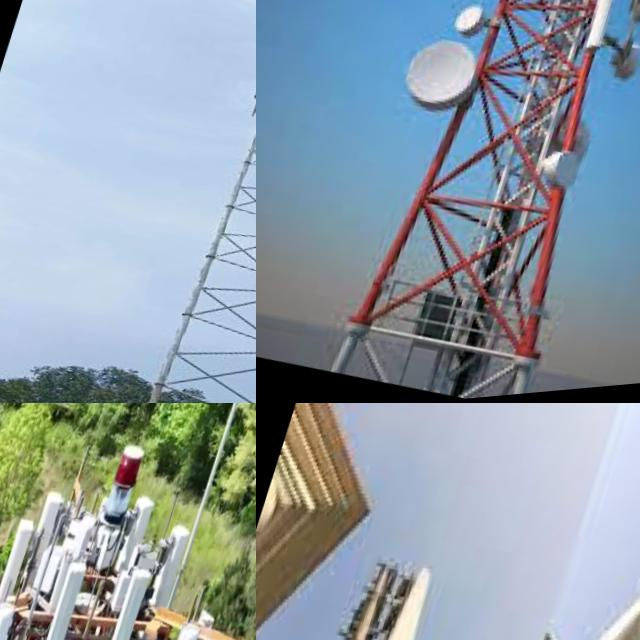GSM Antenna: (343, 543, 460, 640), (8, 550, 100, 640), (70, 561, 166, 640), (16, 483, 75, 594), (0, 511, 41, 609), (580, 0, 640, 63), (249, 78, 256, 112)
Microwave Antenna: (384, 21, 505, 149), (538, 139, 592, 204), (445, 0, 504, 55), (605, 44, 640, 98)
